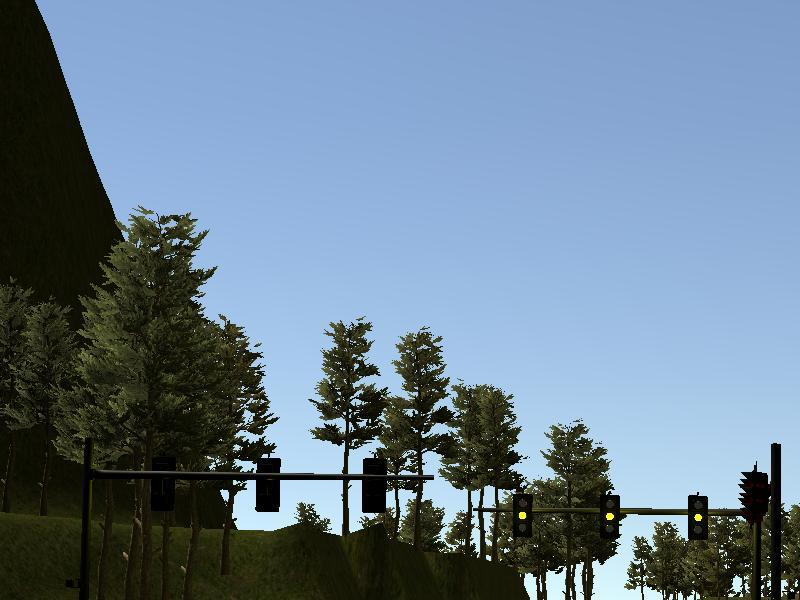Yellow: (513, 493, 533, 538), (689, 495, 708, 542), (599, 496, 620, 538)
